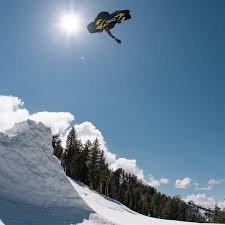snowboard: (85, 7, 131, 33)
